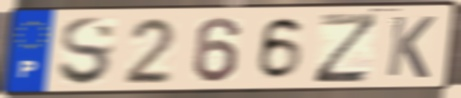2: (122, 16, 180, 86)
6: (189, 15, 244, 85), (255, 16, 306, 82)
K: (383, 13, 438, 81)
S: (56, 15, 118, 89)
Z: (310, 11, 382, 85)
